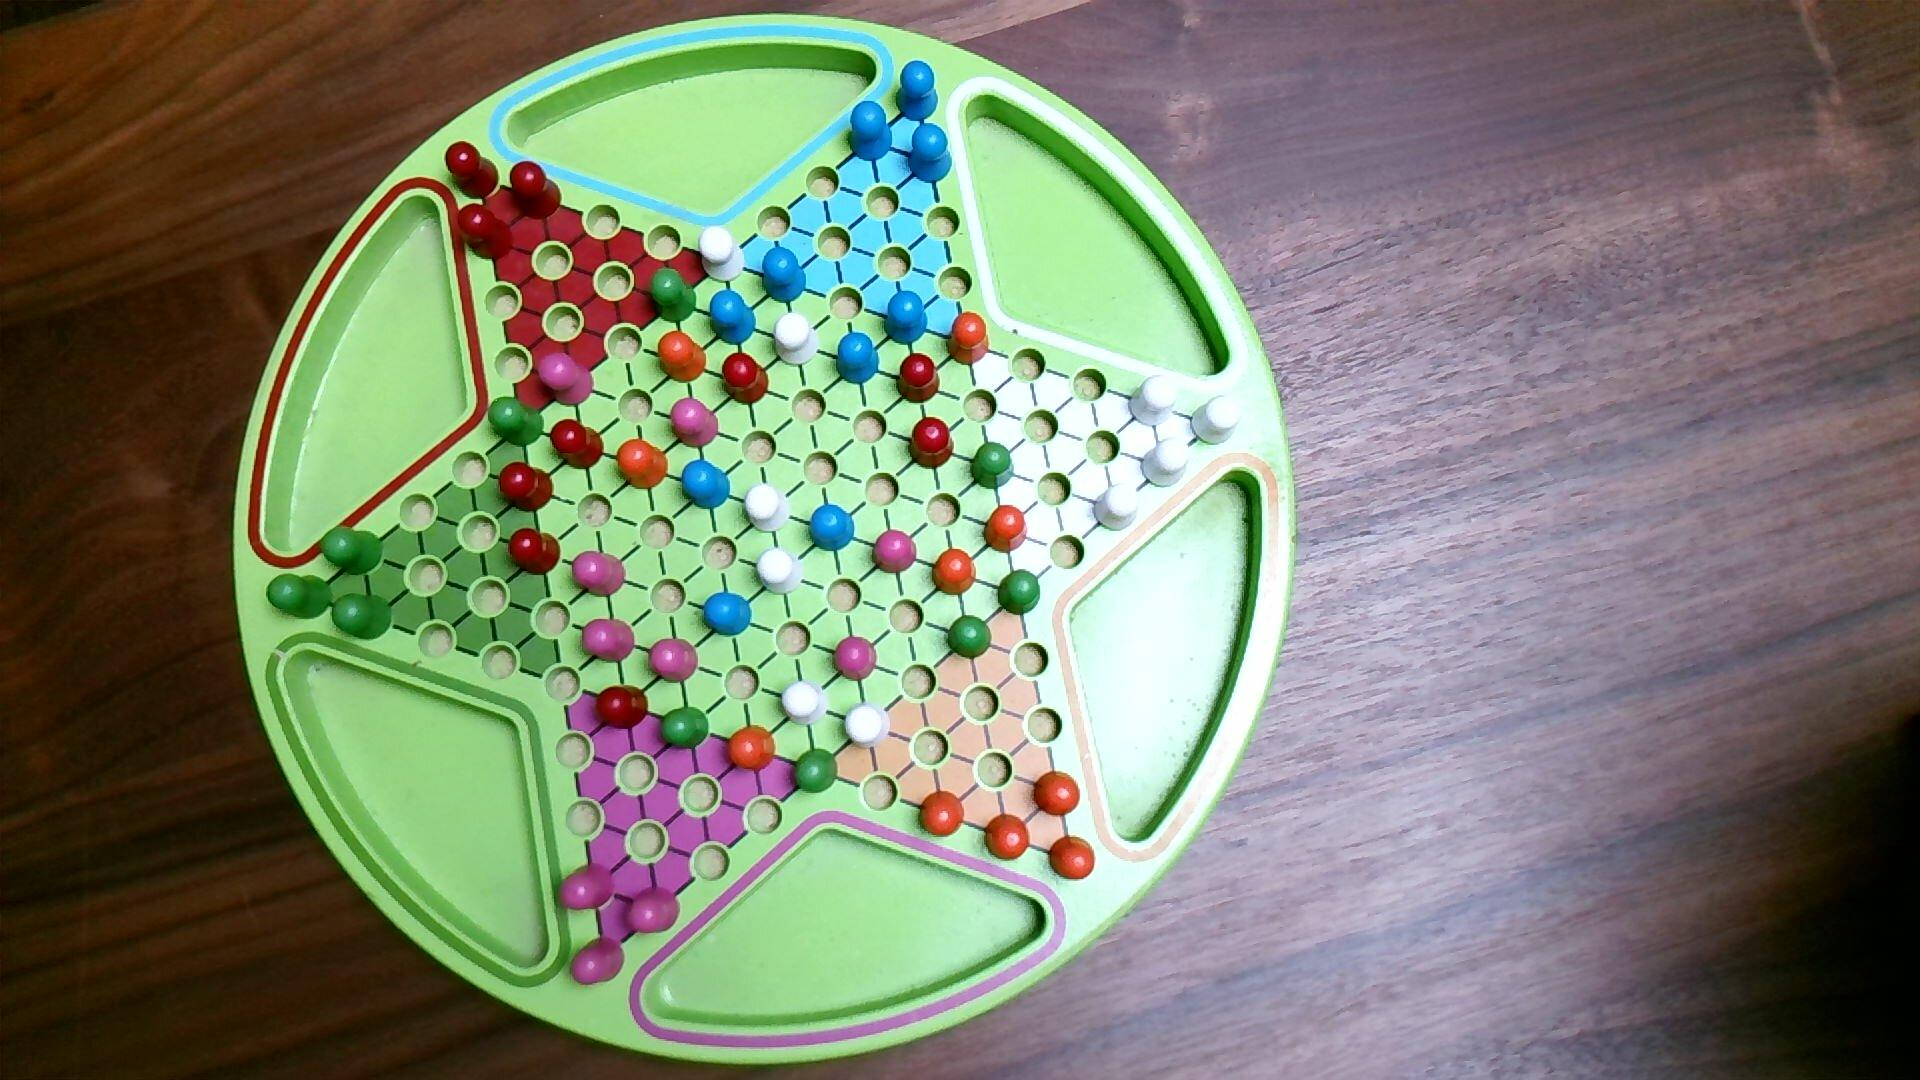B: (847, 99, 895, 164), (709, 287, 758, 348), (895, 59, 942, 123), (907, 123, 953, 185), (761, 247, 808, 306), (680, 459, 733, 512), (833, 330, 882, 386), (884, 289, 930, 347), (807, 502, 857, 554), (702, 591, 754, 640)
G: (318, 524, 386, 578), (265, 574, 334, 622), (331, 591, 396, 642), (487, 396, 547, 448), (649, 266, 699, 326), (658, 705, 709, 752), (791, 748, 840, 795), (996, 568, 1043, 617), (969, 440, 1015, 491), (947, 615, 994, 661)
O: (615, 438, 670, 492), (655, 328, 708, 385), (945, 310, 992, 368), (725, 724, 778, 774), (1047, 833, 1098, 884), (982, 814, 1033, 864), (1033, 769, 1083, 819), (918, 789, 967, 840), (930, 547, 978, 597), (982, 504, 1029, 555)
R: (443, 140, 502, 200), (456, 203, 516, 262), (509, 160, 564, 222), (497, 462, 555, 516), (549, 418, 607, 472), (506, 527, 563, 578), (721, 351, 770, 407), (909, 415, 956, 472), (593, 684, 650, 731), (895, 352, 943, 405)
R2: (535, 351, 596, 407), (555, 862, 617, 913), (624, 885, 682, 935), (669, 396, 720, 451), (568, 938, 626, 986), (571, 550, 626, 600), (580, 618, 637, 665), (647, 638, 700, 684), (831, 636, 880, 683), (872, 527, 919, 576)
W: (698, 225, 746, 286), (1139, 436, 1192, 491), (1189, 394, 1244, 447), (1127, 375, 1180, 429), (771, 311, 819, 369), (742, 483, 793, 535), (843, 700, 893, 752), (756, 546, 806, 597), (781, 679, 831, 729), (1093, 483, 1141, 534)
